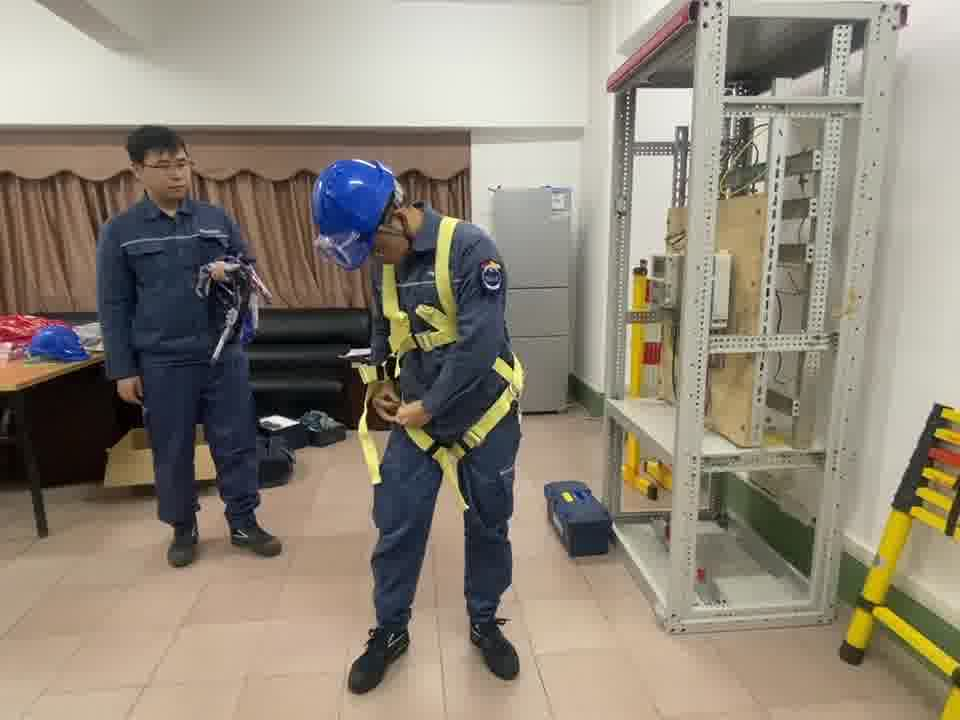downsuit: (368, 431, 523, 627), (142, 373, 265, 528)
halt: (313, 158, 399, 269)
hand: (366, 382, 399, 420), (393, 399, 431, 430), (117, 376, 144, 405)
inear: (379, 204, 413, 248)
noear: (126, 158, 181, 196)
person: (315, 156, 533, 685), (99, 125, 283, 561)
safebelt: (335, 213, 524, 508)
sleeve: (478, 259, 506, 291)
unhalt: (124, 127, 195, 201)
upsuit: (376, 208, 517, 394), (101, 200, 256, 368)
